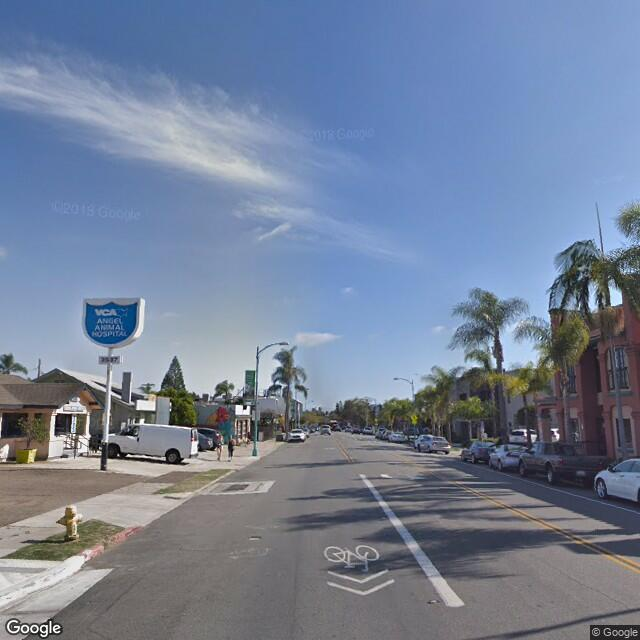road line: (357, 472, 460, 612)
